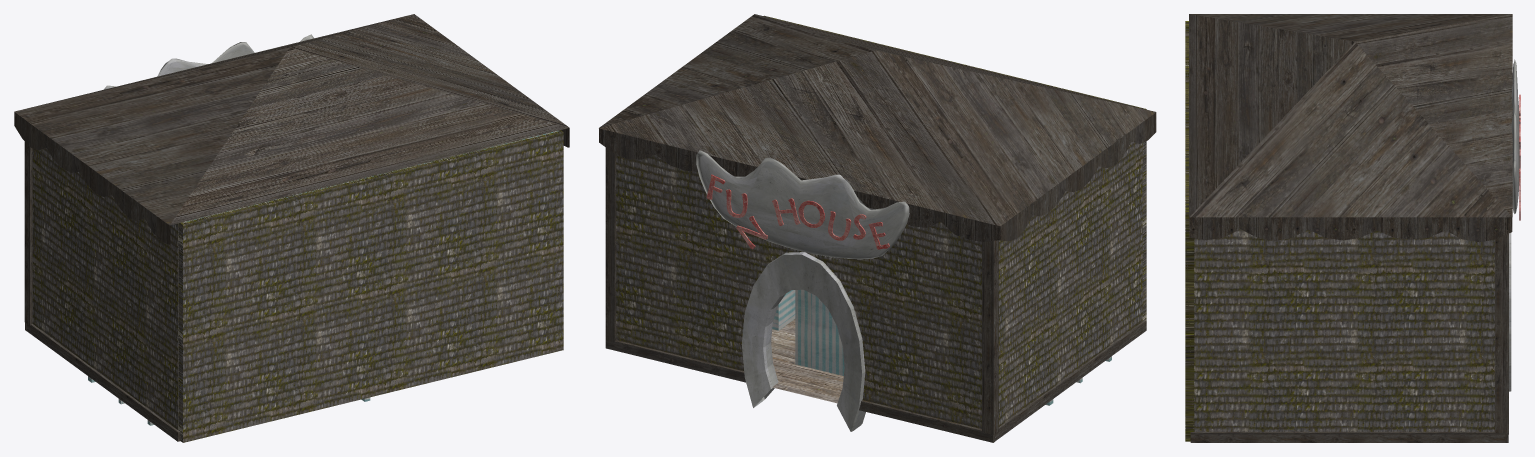
File: funhouse_1.fbx
3 views of the same model, side by side, from view 1: azimuth 30°, elevation 25°; view 2: azimuth 150°, elevation 25°; view 3: azimuth 270°, elevation 25° (orthographic). The views are drawn at different scales.
Visible parts, largest first — view 1: polySurface7, pPyramid1, polySurface4, polySurface5, funhouse_sign:pSphere1; view 2: polySurface7, pPyramid1, funhouse_sign:pSphere1, polySurface4, pPipe1, polySurface5, polySurface2, polySurface3, polySurface6; view 3: pPyramid1, polySurface7, polySurface5, polySurface4, funhouse_sign:pSphere1, pPipe1.
Boxes of the visible parts, left/top/right/bottom form: polySurface7: left=32, top=130, right=563, bottom=442; pPyramid1: left=14, top=14, right=569, bottom=225; polySurface4: left=24, top=141, right=180, bottom=441; polySurface5: left=14, top=112, right=569, bottom=244; funhouse_sign:pSphere1: left=103, top=34, right=313, bottom=89; polySurface7: left=616, top=15, right=1146, bottom=428; pPyramid1: left=599, top=14, right=1155, bottom=226; funhouse_sign:pSphere1: left=696, top=150, right=909, bottom=259; polySurface4: left=605, top=147, right=1146, bottom=442; pPipe1: left=741, top=252, right=865, bottom=431; polySurface5: left=599, top=112, right=1156, bottom=241; polySurface2: left=772, top=289, right=1111, bottom=405; polySurface3: left=771, top=319, right=843, bottom=403; polySurface6: left=706, top=174, right=889, bottom=249; pPyramid1: left=1189, top=14, right=1512, bottom=217; polySurface7: left=1185, top=21, right=1494, bottom=441; polySurface5: left=1189, top=217, right=1512, bottom=242; polySurface4: left=1190, top=233, right=1508, bottom=442; funhouse_sign:pSphere1: left=1511, top=59, right=1519, bottom=213; pPipe1: left=1509, top=233, right=1511, bottom=391.
Bounding box in the file's own units: 1049 × 785 × 731.
Materials: 7 (6 with a texture image).
